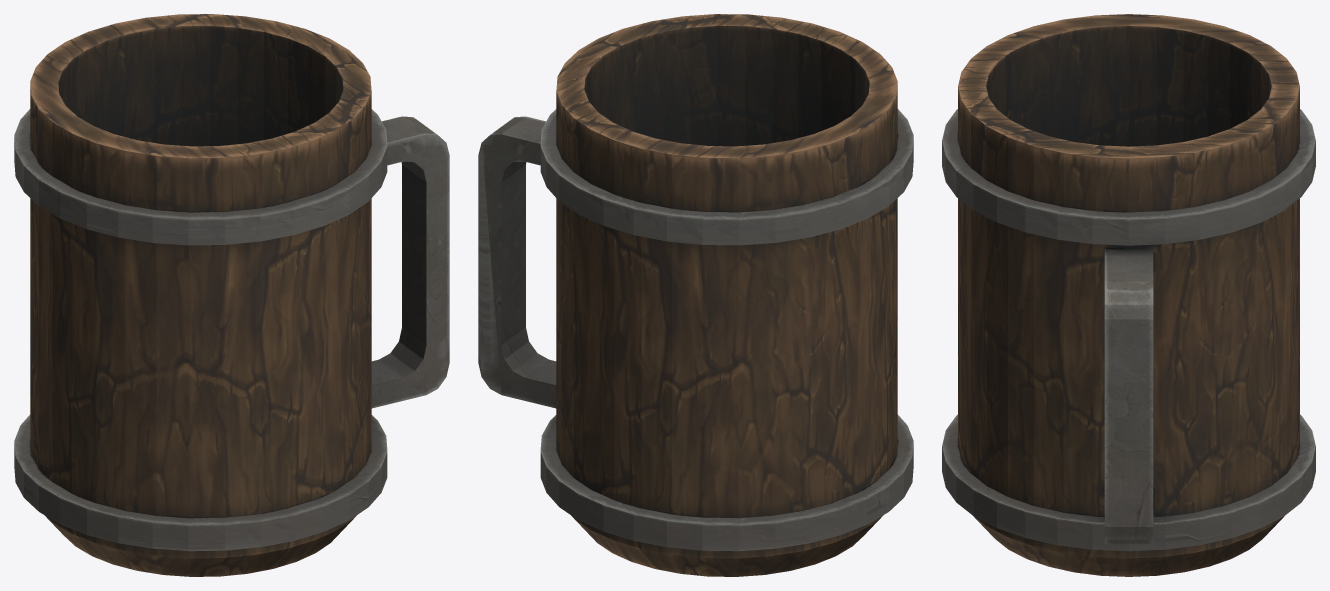
Rendered from Mug Textured.obj.
3 views of the same model, side by side, from view 1: azimuth 30°, elevation 25°; view 2: azimuth 150°, elevation 25°; view 3: azimuth 270°, elevation 25° (orthographic).
Parts seen in each view (by area): view 1: Cylinder.002, Handle, Cylinder, Cylinder.001; view 2: Cylinder.002, Handle, Cylinder, Cylinder.001; view 3: Cylinder.002, Handle, Cylinder, Cylinder.001.
Boxes of the visible parts, x1,y1,x2,y2 form: Cylinder.002: (30, 14, 371, 576); Handle: (371, 116, 449, 408); Cylinder: (14, 109, 387, 245); Cylinder.001: (14, 414, 387, 551); Cylinder.002: (556, 14, 897, 576); Handle: (478, 116, 556, 408); Cylinder: (540, 109, 913, 245); Cylinder.001: (540, 414, 913, 551); Cylinder.002: (958, 14, 1299, 576); Handle: (1104, 248, 1153, 544); Cylinder: (942, 109, 1315, 245); Cylinder.001: (942, 414, 1315, 551).
Size of the model in its own units: 0.1858 by 0.1916 by 0.1511.
1 material, 1 textured.
